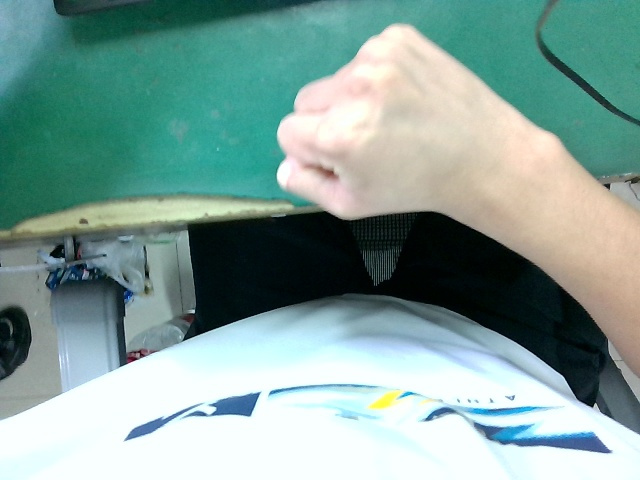stone: (272, 14, 525, 257)
